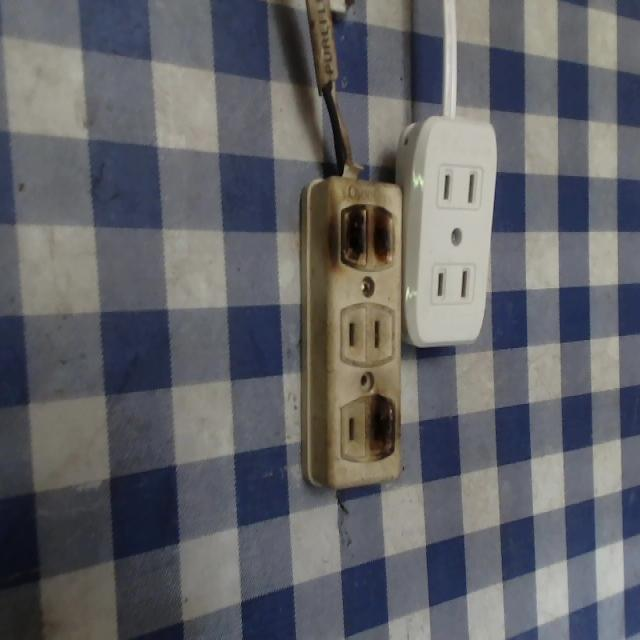-: (337, 201, 395, 272), (365, 392, 399, 461)
